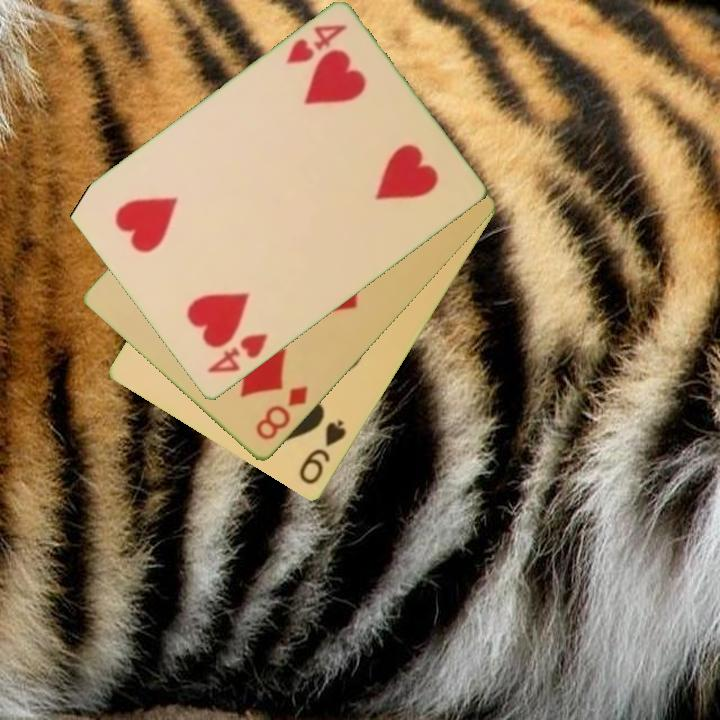4h: (282, 21, 351, 68), (204, 330, 271, 377)
8d: (252, 382, 312, 444)
9s: (295, 416, 350, 488)
